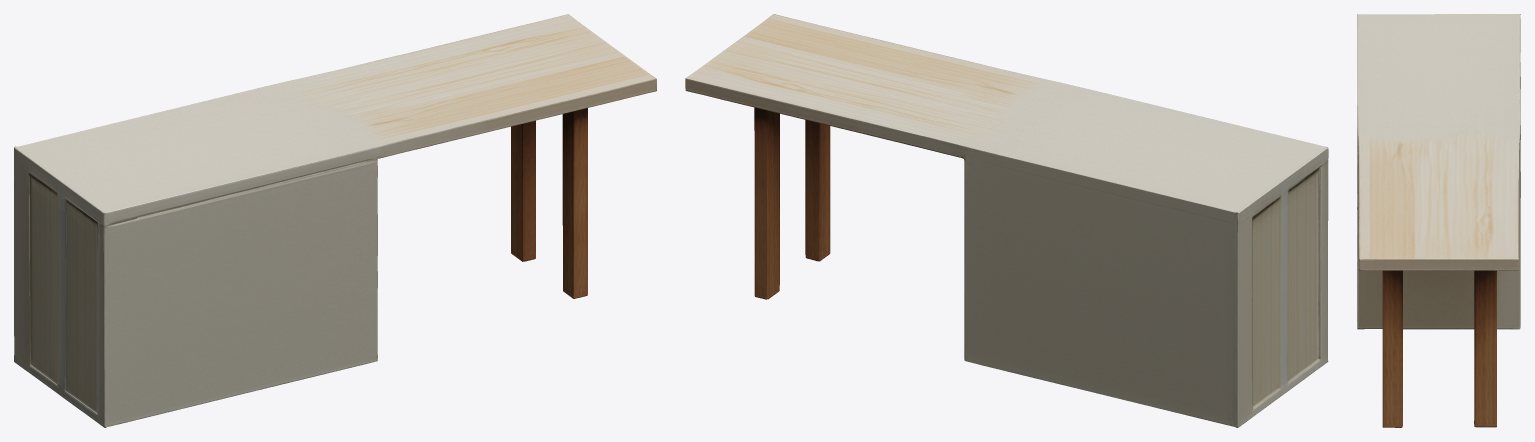
The model's file is text_example5.glb.
3 views of the same model, side by side, from view 1: azimuth 30°, elevation 25°; view 2: azimuth 150°, elevation 25°; view 3: azimuth 270°, elevation 25° (orthographic). The views are drawn at different scales.
Parts seen in each view (by area): view 1: world; view 2: world; view 3: world.
Part boxes in pixels (bbox=[...]): world: bbox=[14, 14, 656, 427]; world: bbox=[685, 14, 1328, 427]; world: bbox=[1357, 14, 1520, 427].
Size of the model in its own units: 0.9996 by 0.371 by 0.2829.
1 material, 1 textured.
